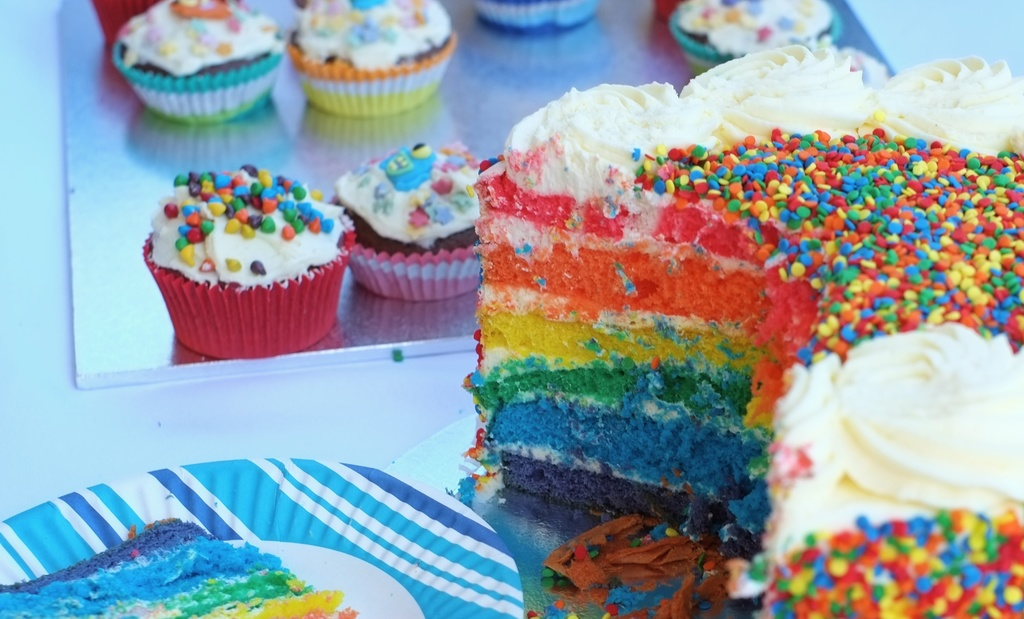cake: (463, 50, 1023, 618), (143, 165, 351, 364)
